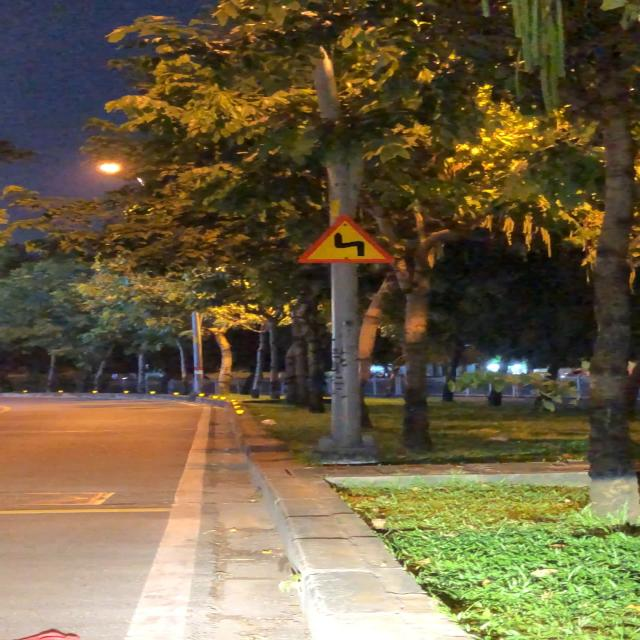Bien bao nhieu cho ngoat nguy hiem lien tiep: (290, 214, 399, 267)
